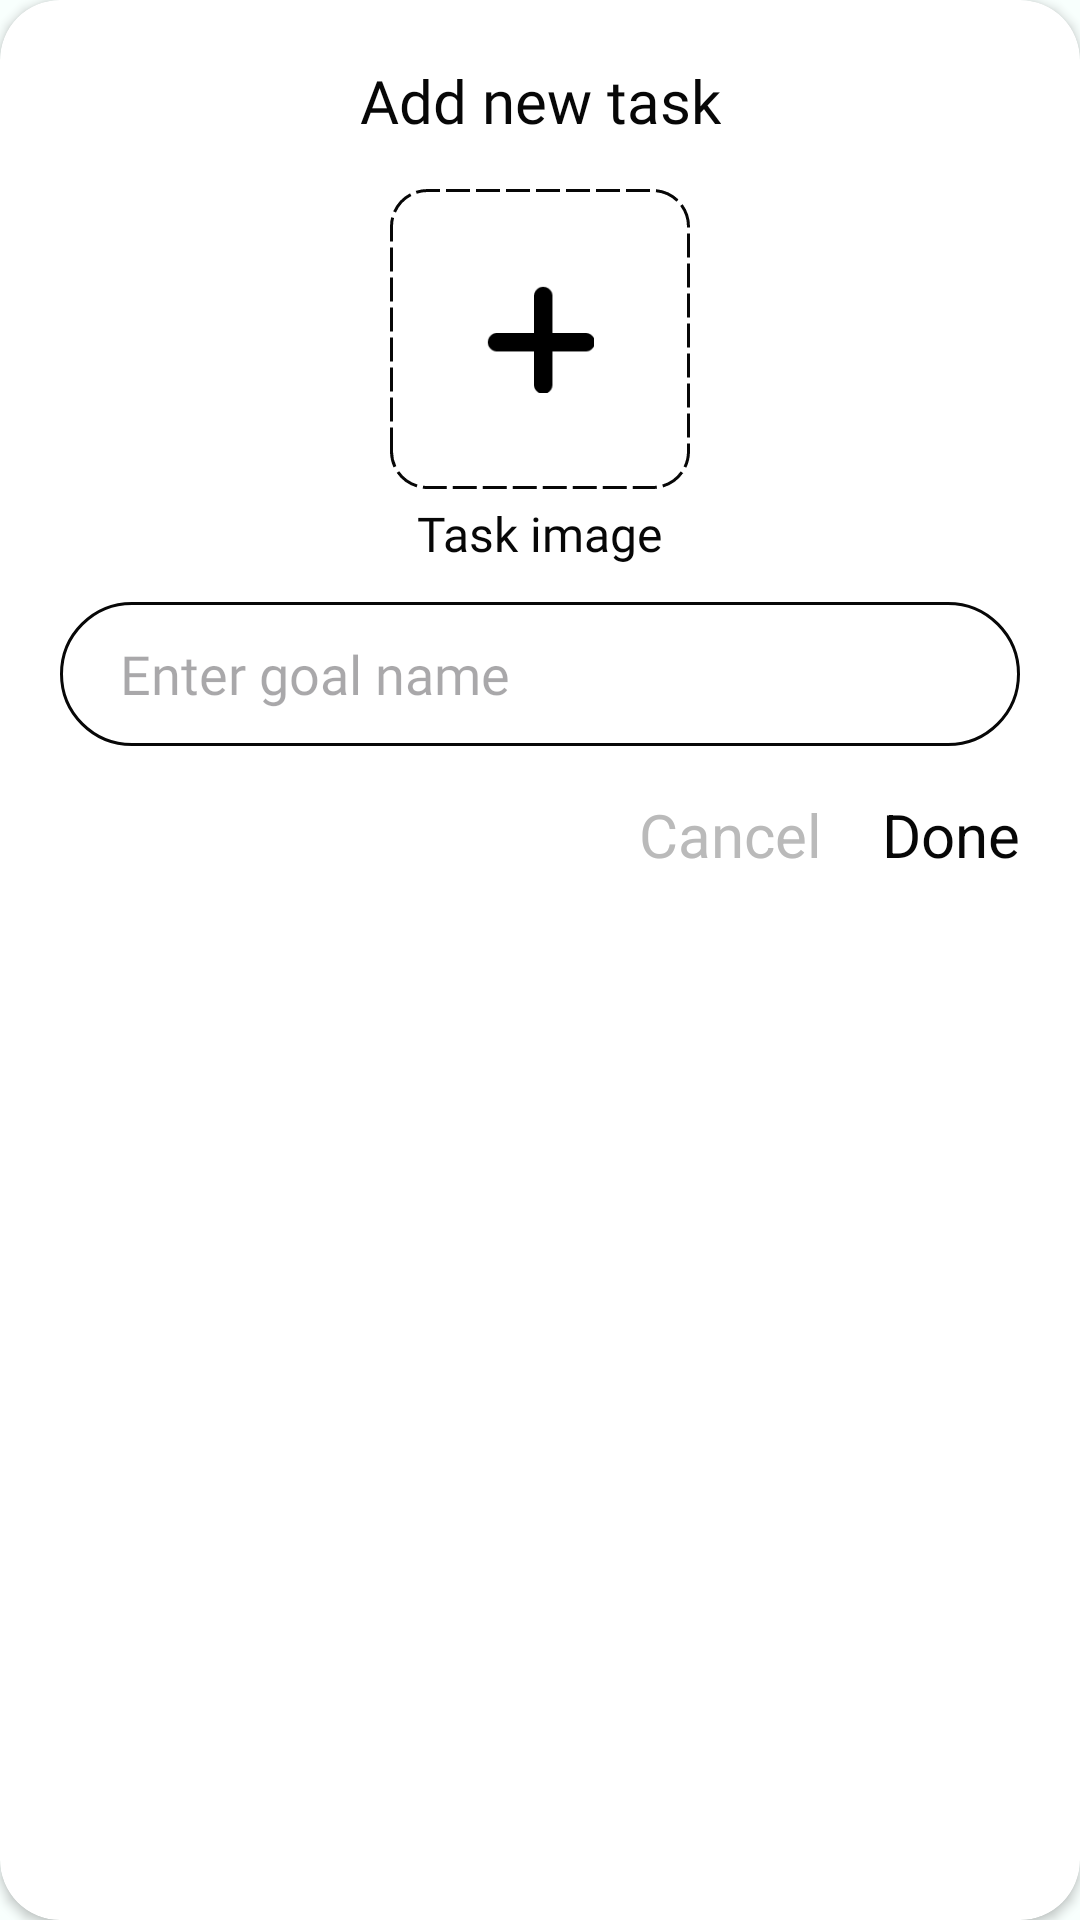

Icons on this 1080px x 1920px Android screen, each with its box as (x1, y1, x2, y2):
plus: (390, 189, 690, 489)
